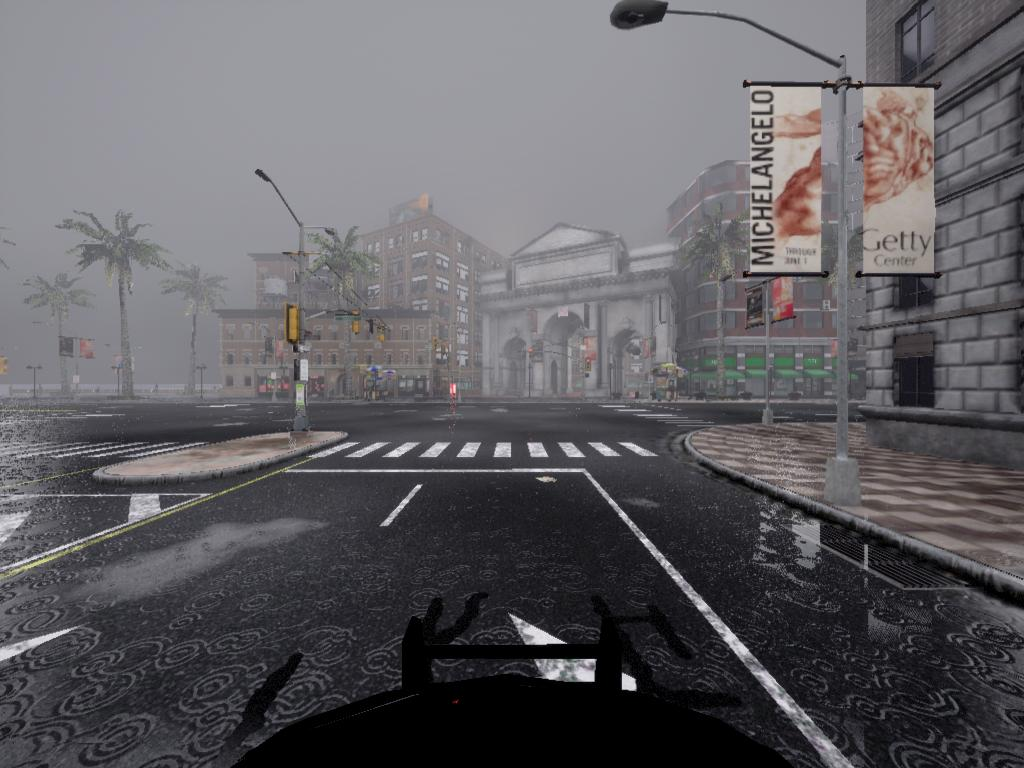traffic_light: (287, 306, 306, 343), (375, 323, 388, 343), (354, 320, 365, 338), (585, 358, 593, 373), (442, 341, 448, 360), (529, 348, 536, 364), (433, 338, 439, 355)
